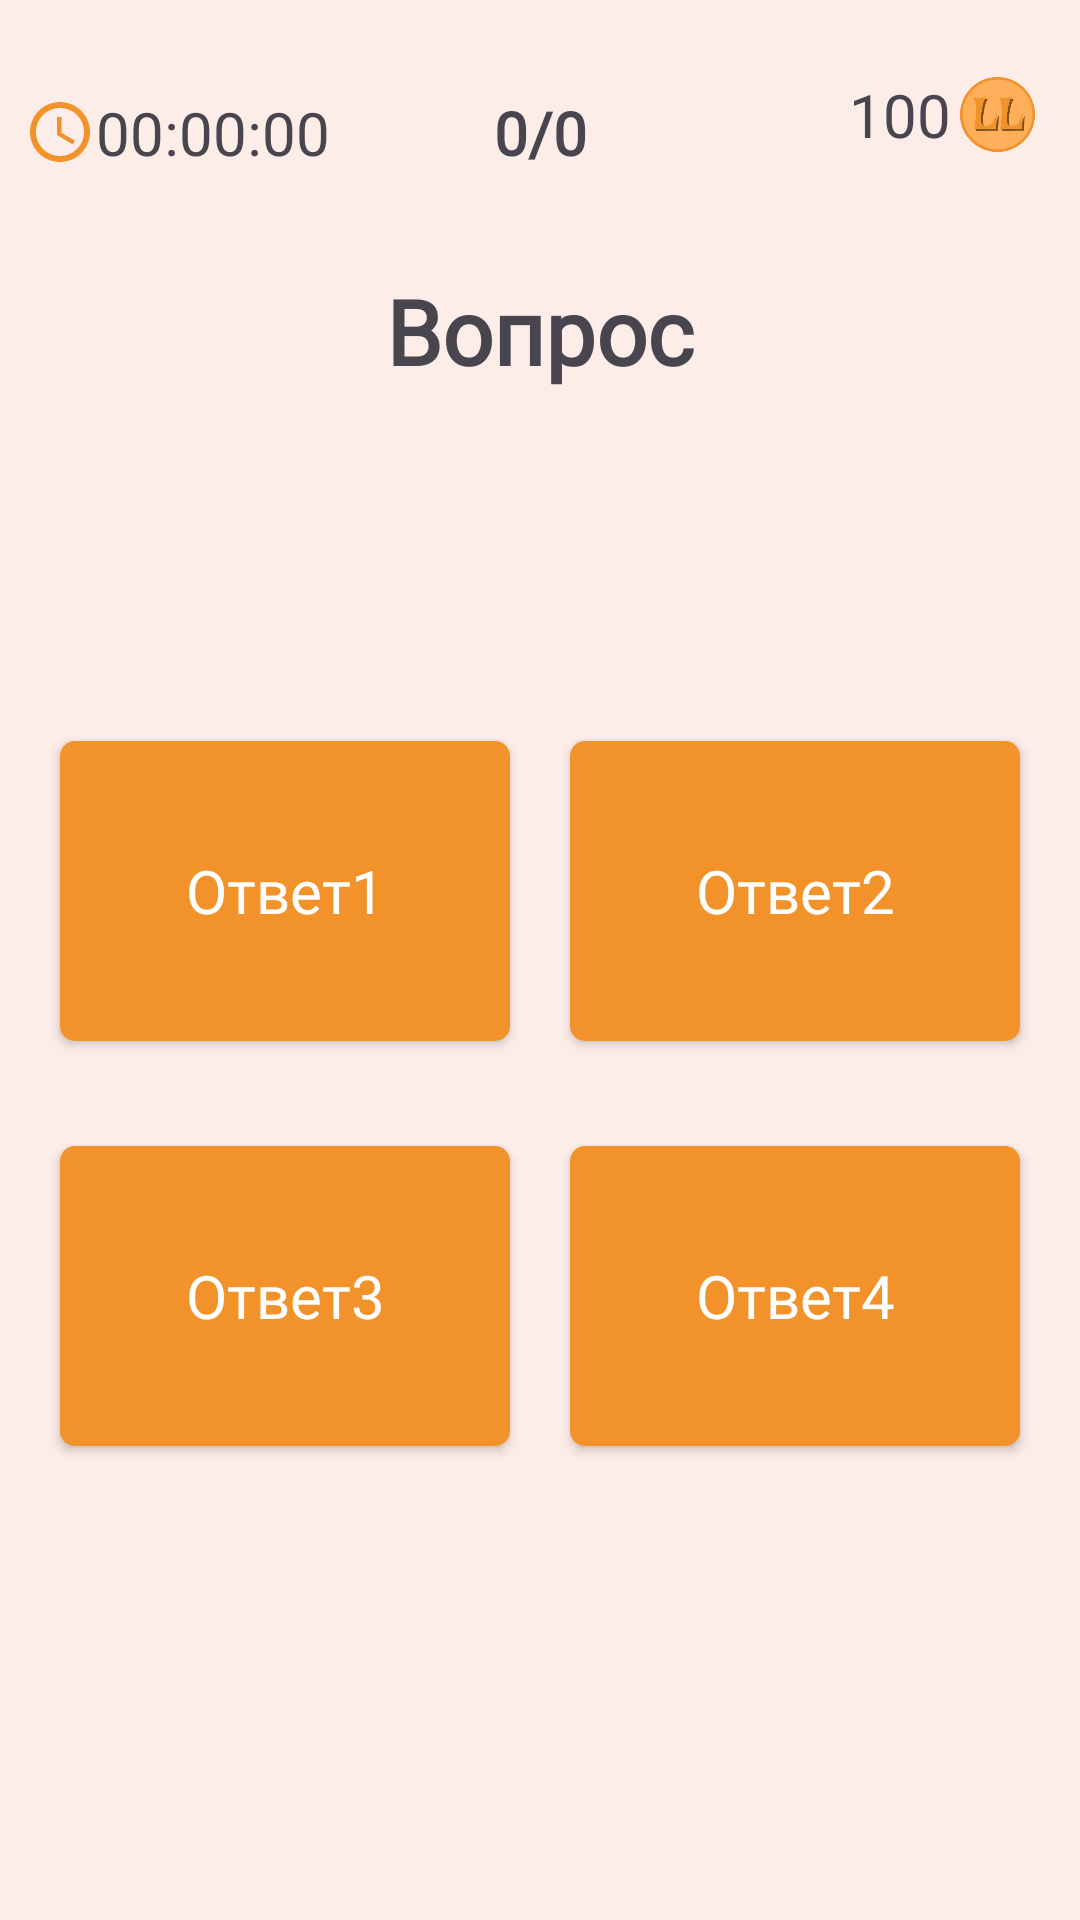

Screen size 1080x1920. Icon name, then its center in pixels as point (x, y):
coin: point (997, 114)
